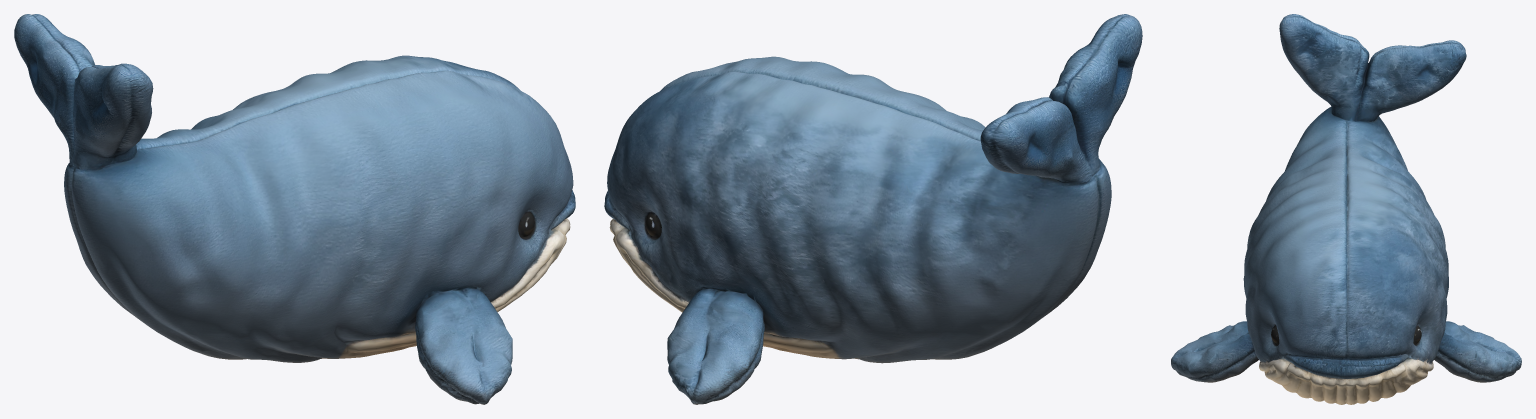
The model's file is whale.glb.
3 renders of one model, left to right at view 1: azimuth 30°, elevation 25°; view 2: azimuth 150°, elevation 25°; view 3: azimuth 270°, elevation 25°, orthographic. The views are drawn at different scales.
Visible parts, largest first — view 1: tripo_node_9e1e9577-ea1e-40ec-8203-30e559050ed2; view 2: tripo_node_9e1e9577-ea1e-40ec-8203-30e559050ed2; view 3: tripo_node_9e1e9577-ea1e-40ec-8203-30e559050ed2.
Boxes of the visible parts, x1,y1,x2,y2 form: tripo_node_9e1e9577-ea1e-40ec-8203-30e559050ed2: [14, 14, 575, 404]; tripo_node_9e1e9577-ea1e-40ec-8203-30e559050ed2: [604, 14, 1142, 404]; tripo_node_9e1e9577-ea1e-40ec-8203-30e559050ed2: [1171, 14, 1521, 404].
Size of the model in its own units: 1 by 0.7034 by 0.845.
Materials: 1 (1 with a texture image).
